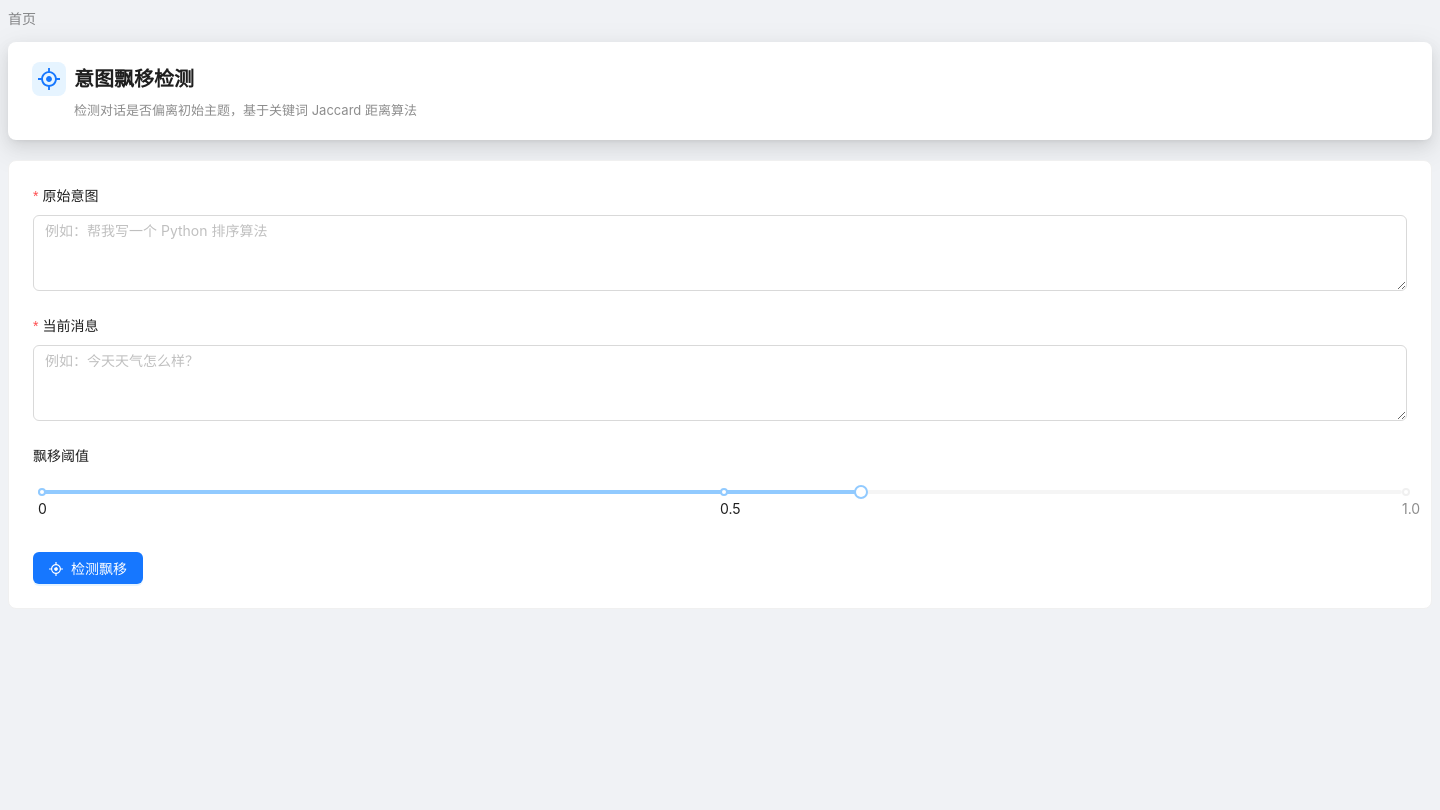
Test: IntentDetectionPage › shows not-drifted result
The width and height of the screenshot is (1440, 810).
Type "a" into the text box labelled "原始意图" at x=720, y=253, box [33, 215, 1407, 291]
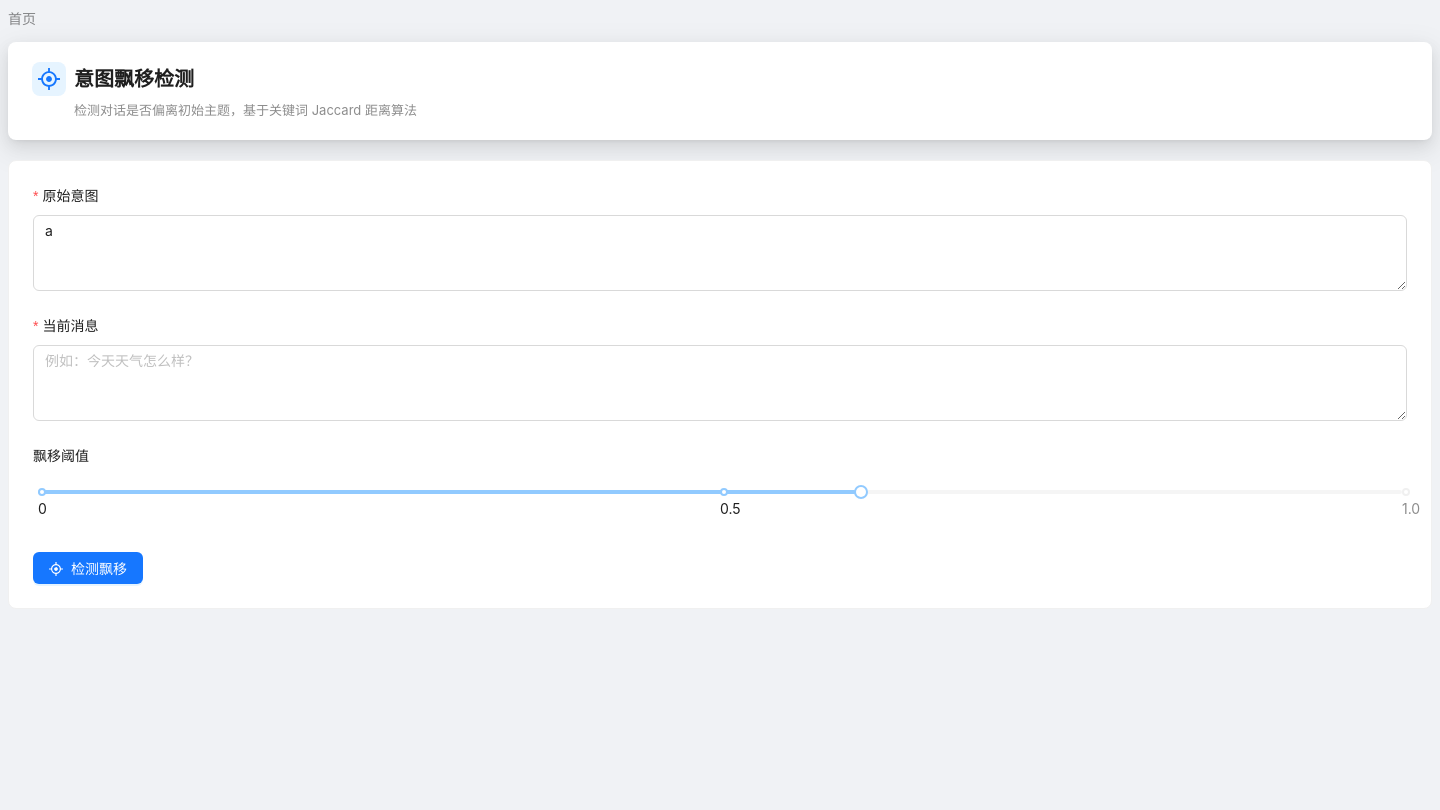
Type "b" into the text box labelled "当前消息" at x=720, y=383, box [33, 345, 1407, 421]
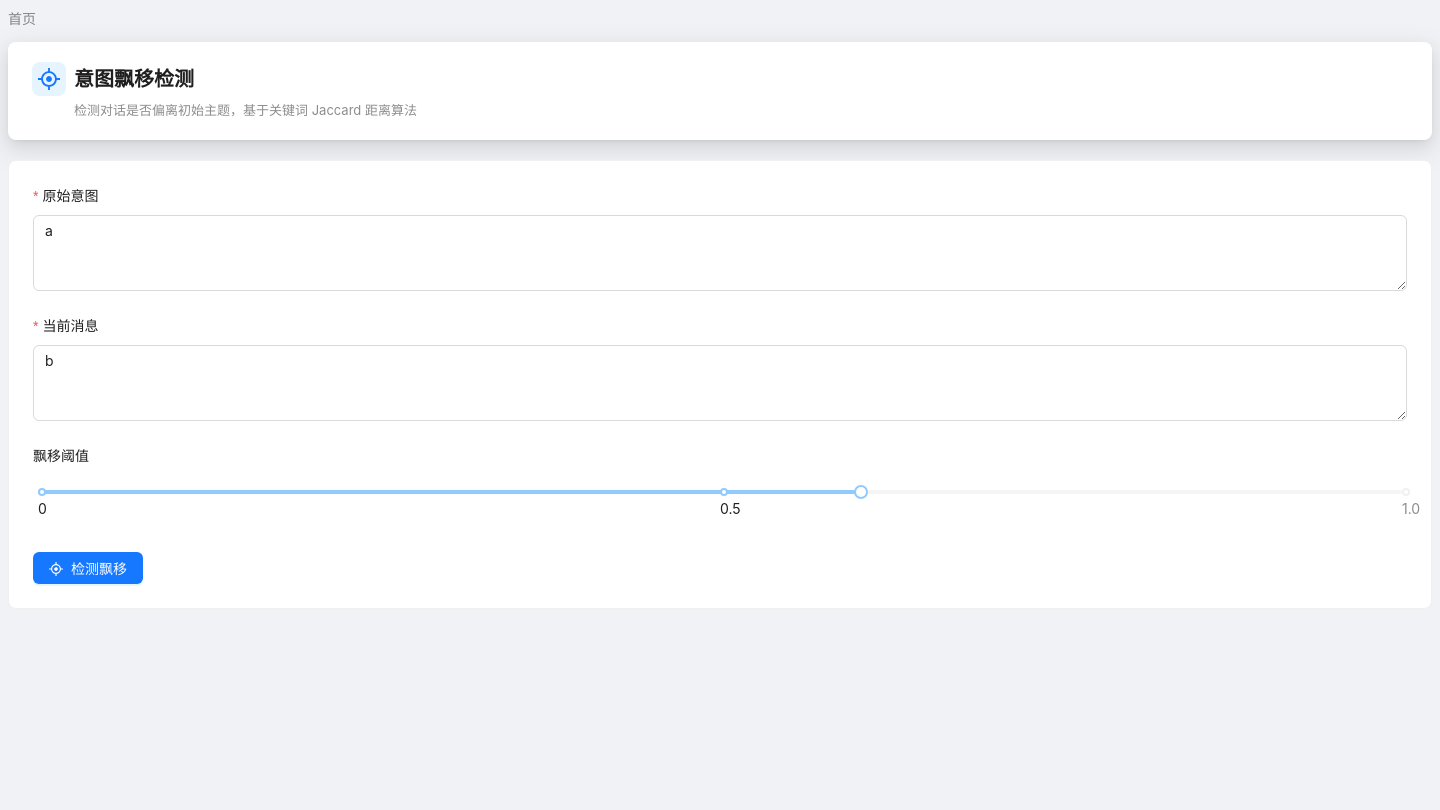
Click the button "检测飘移" at x=88, y=568, box [33, 552, 143, 584]
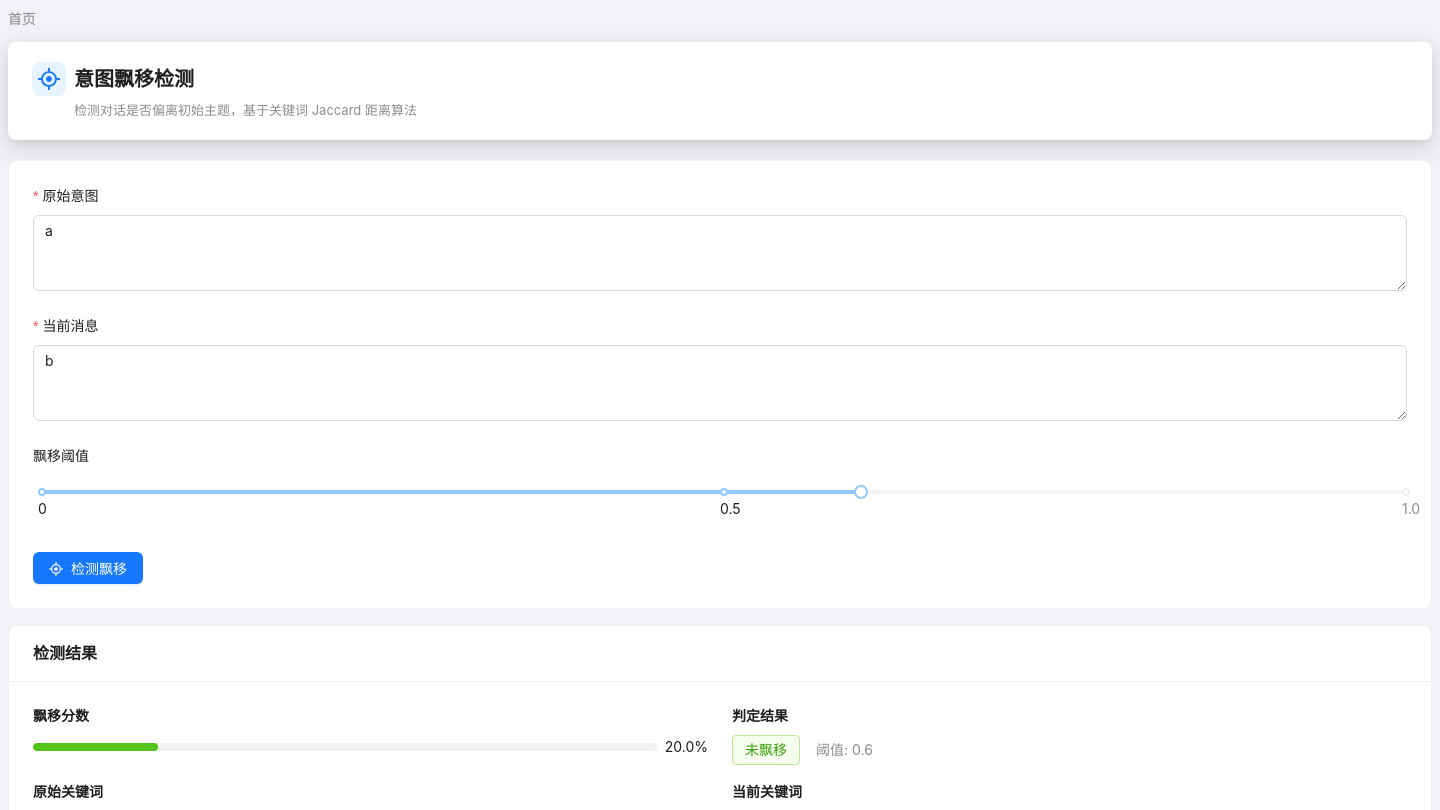
Now the text "未飘移" is shown, box [732, 735, 800, 765]
